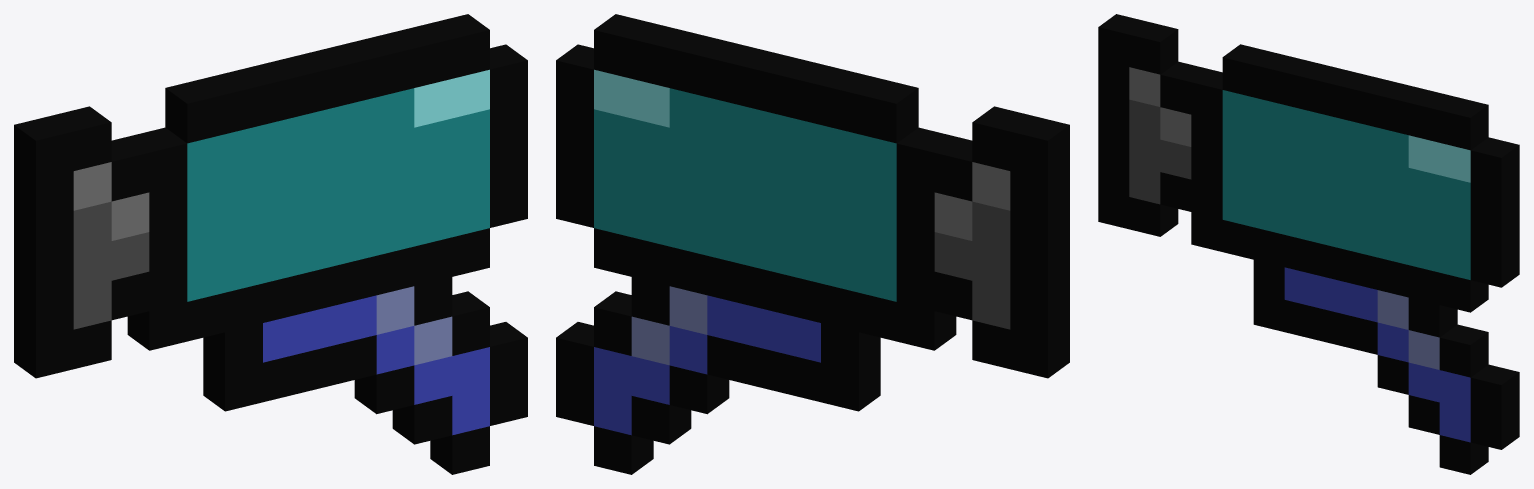
The model's file is Cyan Paintball Gun.glb.
The picture shows the model from 3 angles, left to right: view 1: azimuth 30°, elevation 25°; view 2: azimuth 150°, elevation 25°; view 3: azimuth 330°, elevation 25°; orthographic projection. The views are drawn at different scales.
Parts seen in each view (by area): view 1: generated(Clone); view 2: generated(Clone); view 3: generated(Clone).
Part boxes in pixels (x1=…): generated(Clone): x1=14, y1=14, x2=527, y2=474; generated(Clone): x1=556, y1=14, x2=1069, y2=474; generated(Clone): x1=1098, y1=14, x2=1519, y2=474.
Size of the model in its own units: 13 by 11 by 1.
Materials: 1 (1 with a texture image).
